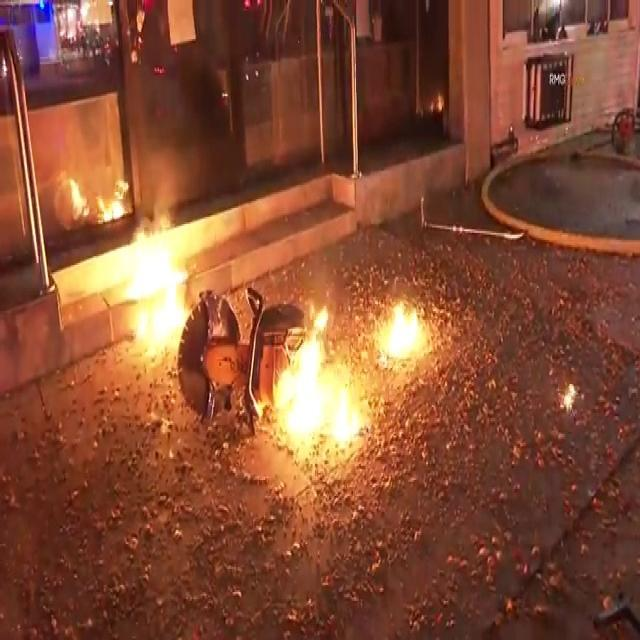Fire: (268, 293, 364, 455), (118, 210, 198, 361), (57, 159, 132, 229), (382, 296, 430, 367)
